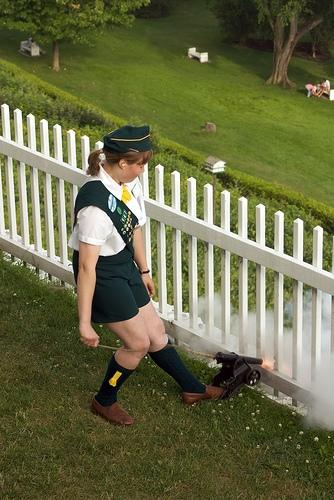strawberry: (72, 180, 140, 256)
